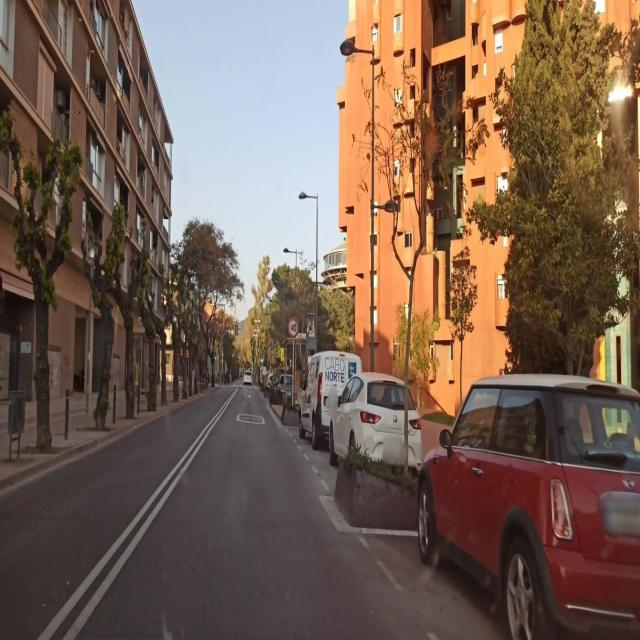car: (416, 373, 640, 640), (328, 370, 423, 478), (298, 349, 362, 450), (270, 369, 292, 405), (242, 369, 252, 386)
